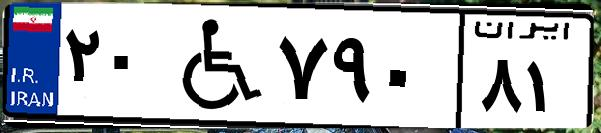0: (385, 28, 445, 110), (110, 28, 158, 98)
1: (525, 38, 570, 115)
2: (57, 26, 110, 100)
7: (270, 28, 330, 110)
8: (475, 38, 525, 113)
9: (330, 28, 385, 110)
ژ (معلولین و جانبازان): (158, 12, 270, 120)
